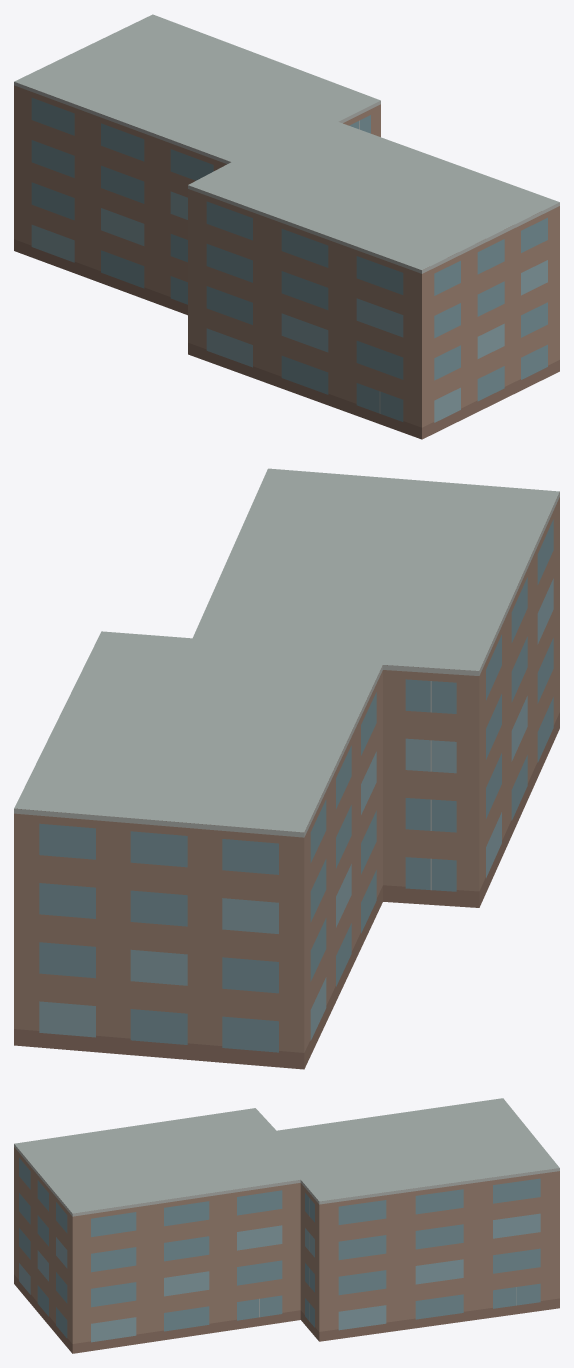
File: survey-upis-32644718.glb
The picture shows the model from 3 angles, top to bottom: view 1: azimuth 30°, elevation 25°; view 2: azimuth 150°, elevation 25°; view 3: azimuth 270°, elevation 25°; orthographic projection. The views are drawn at different scales.
Visible parts, largest first — view 1: survey-upis-32644718.tmp; view 2: survey-upis-32644718.tmp; view 3: survey-upis-32644718.tmp.
Boxes of the visible parts, box(x1,y1,x2,y2) form: survey-upis-32644718.tmp: box(14, 14, 559, 439); survey-upis-32644718.tmp: box(14, 468, 559, 1069); survey-upis-32644718.tmp: box(14, 1098, 559, 1353).
Size of the model in its own units: 19.98 by 11.3 by 39.89.
